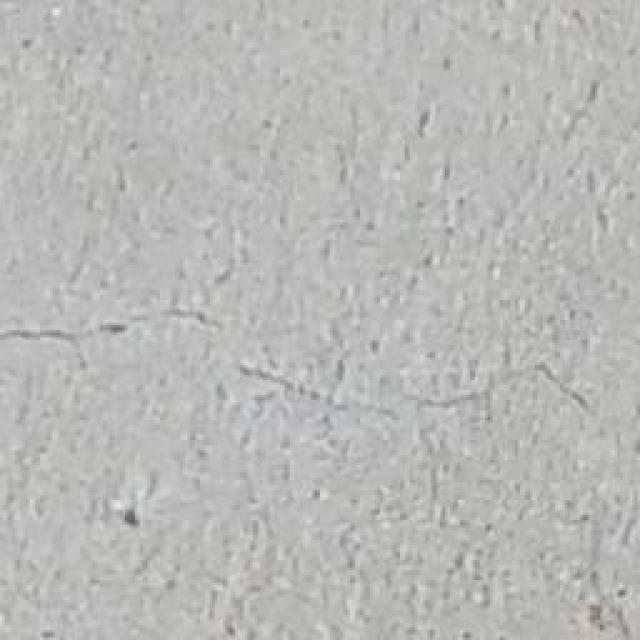concrete-crack: (4, 301, 619, 428)
